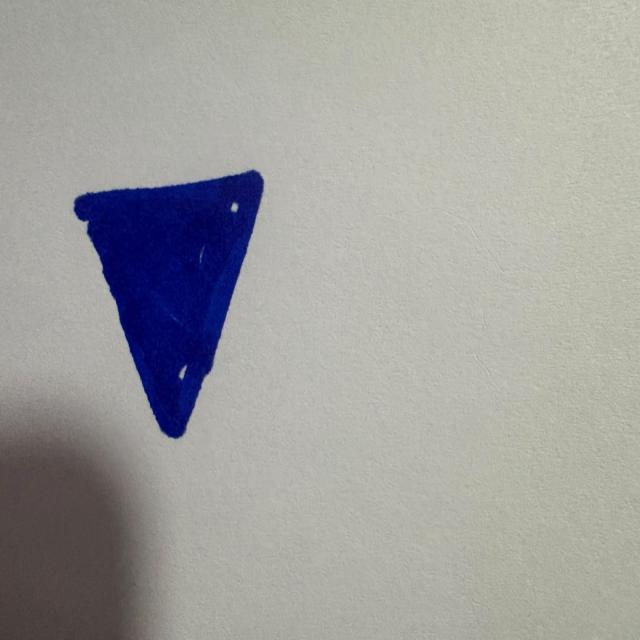Triangle: (65, 167, 273, 443)
